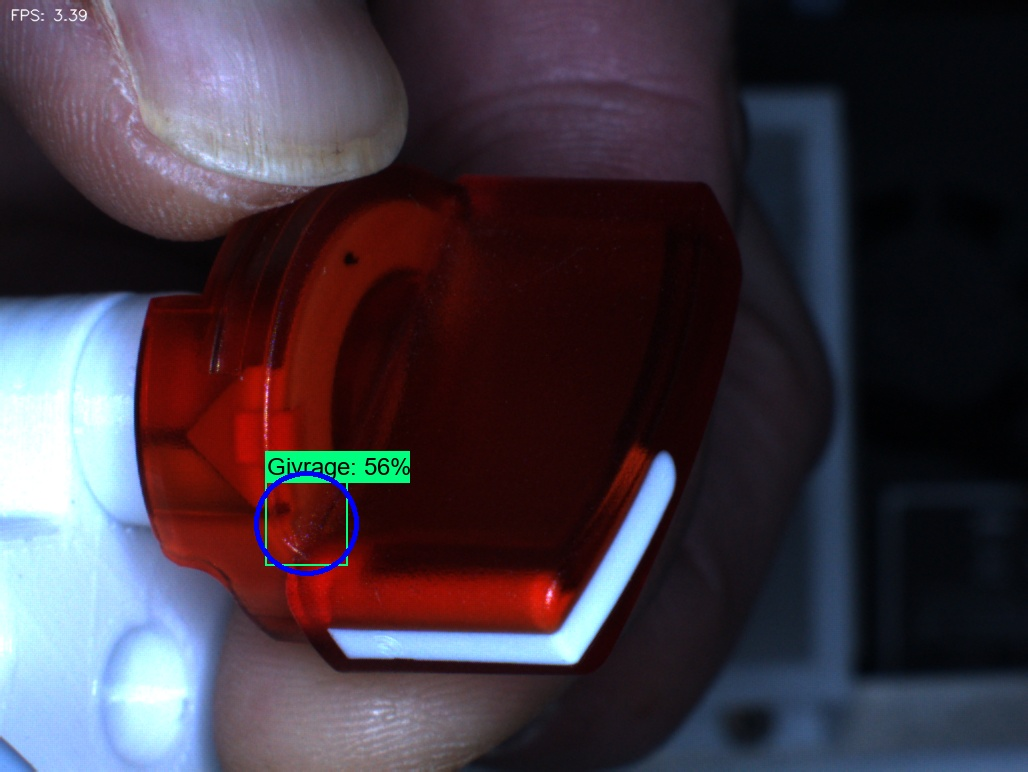PointNoir: (319, 221, 389, 299)
